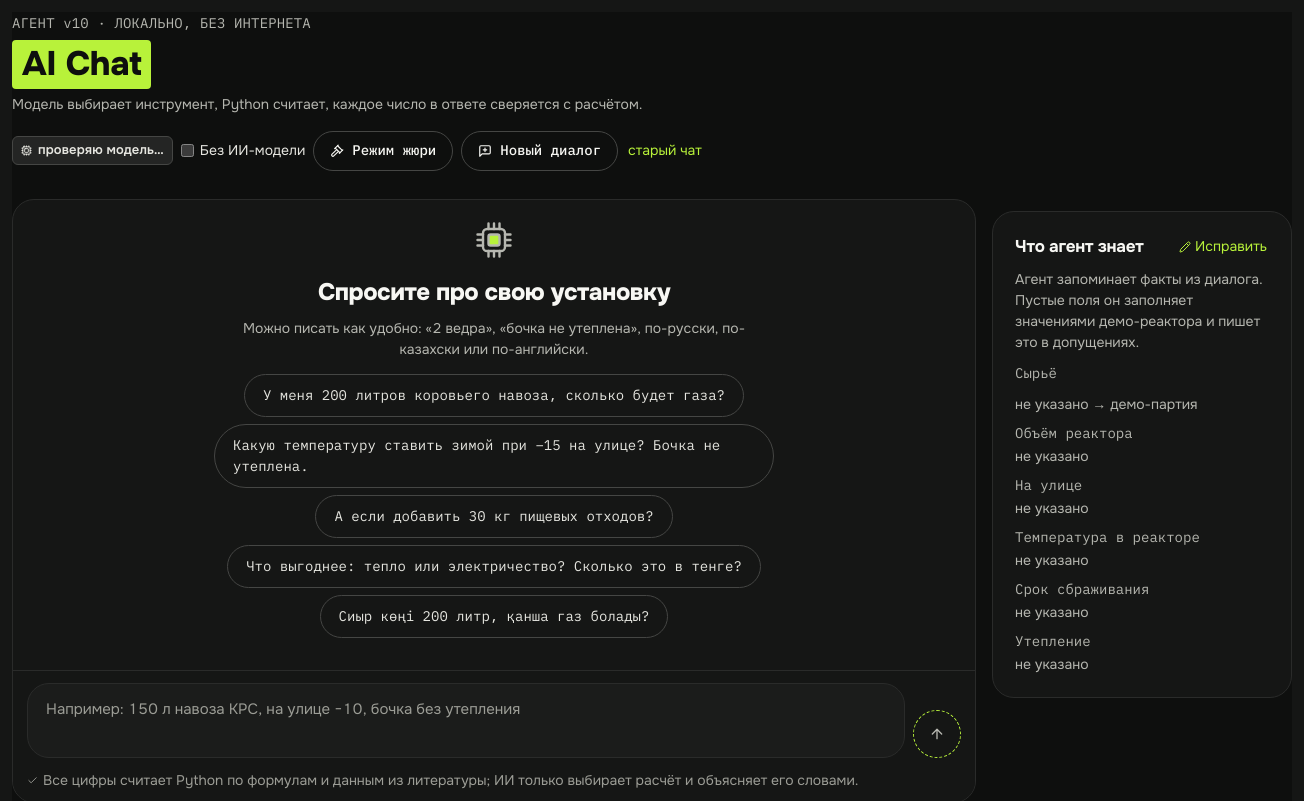
Test: AgentChat page › sends a question and shows the feed, number cards, question and facts
Click the button "У меня 200 литров коровьего навоза, сколько будет газа?" at (494, 395), box [244,374,744,417]
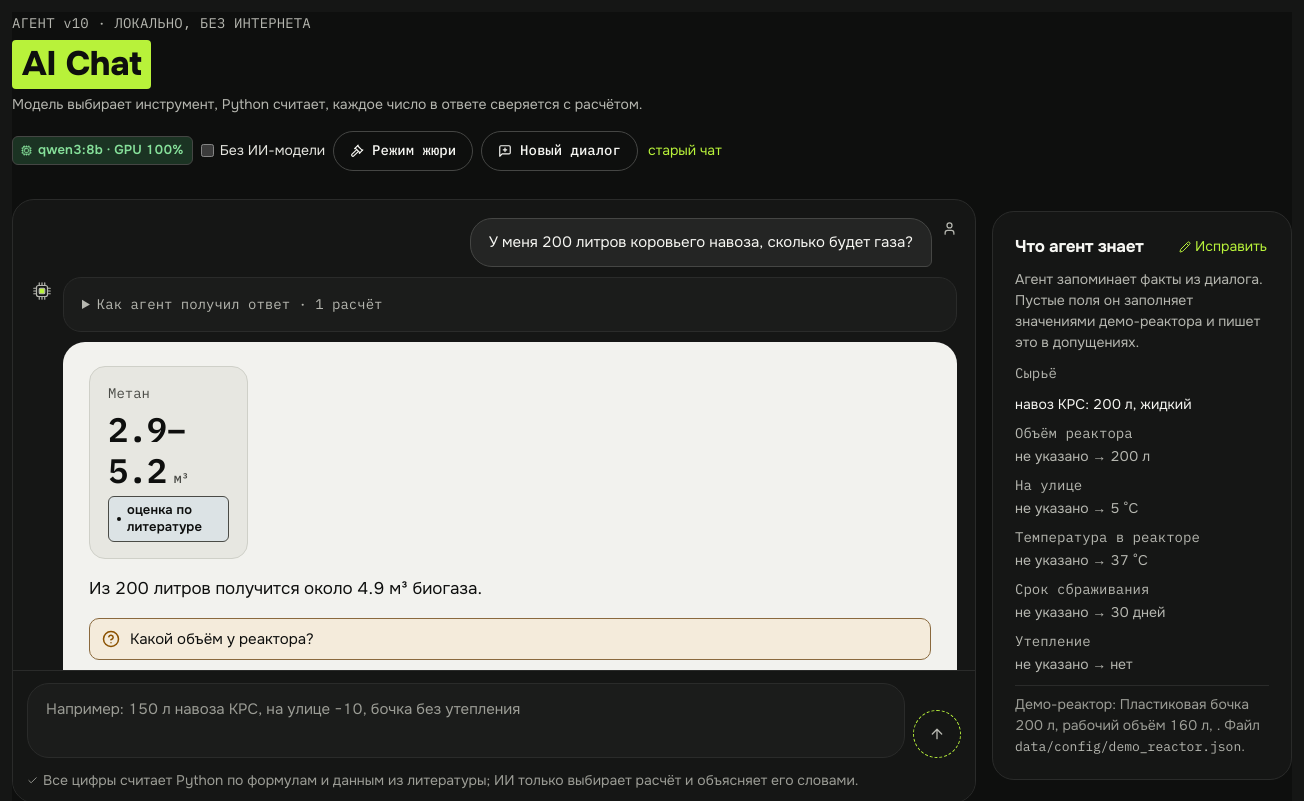
Expected: the text "Из 200 литров получится около 4.9 м³ биогаза." is shown, [89,578,482,598]
Expected: the text "2.9–5.2" is shown, [108,407,186,492]
Expected: the text "Какой объём у реактора?" is shown, [130,628,314,650]
Click the button "Режим жюри" at (403, 151), box [333,131,473,171]
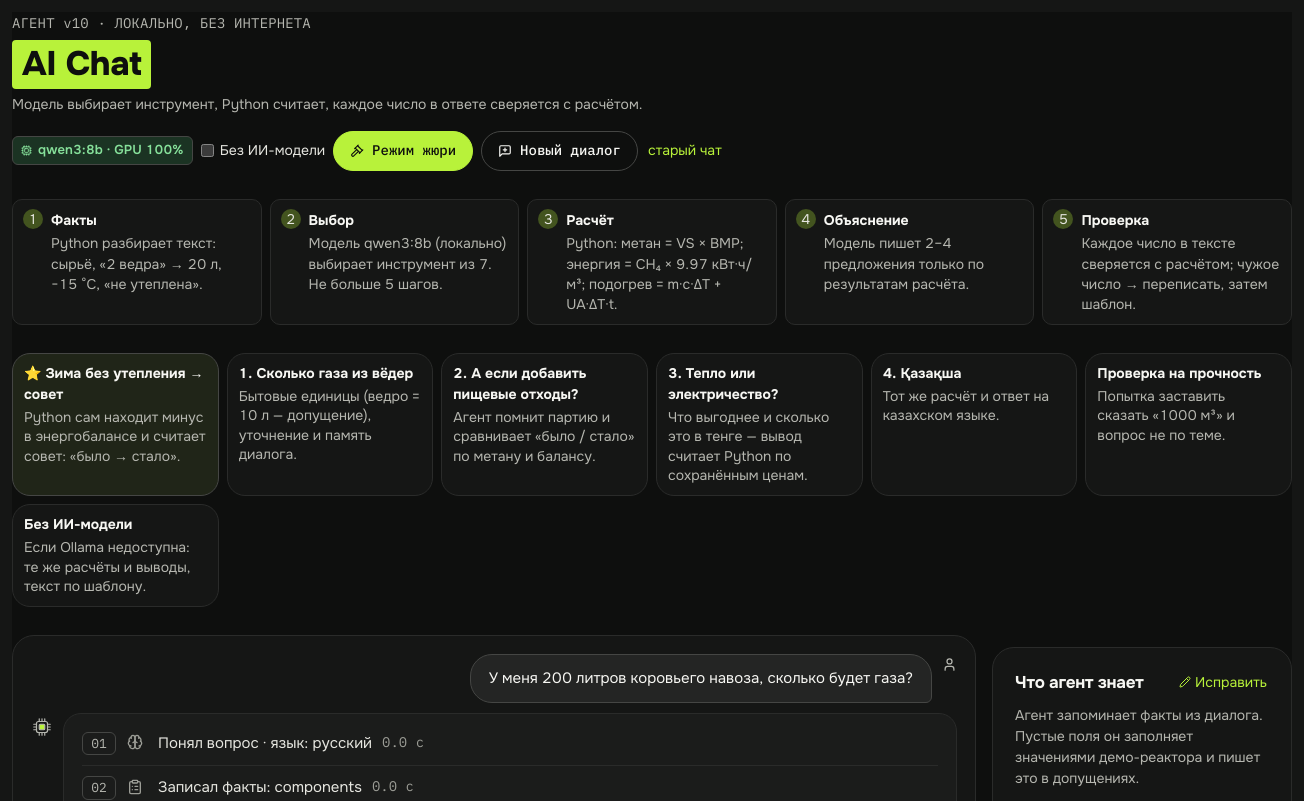
Expected: the list named "Как агент получает ответ" is shown, [12,199,1292,325]
